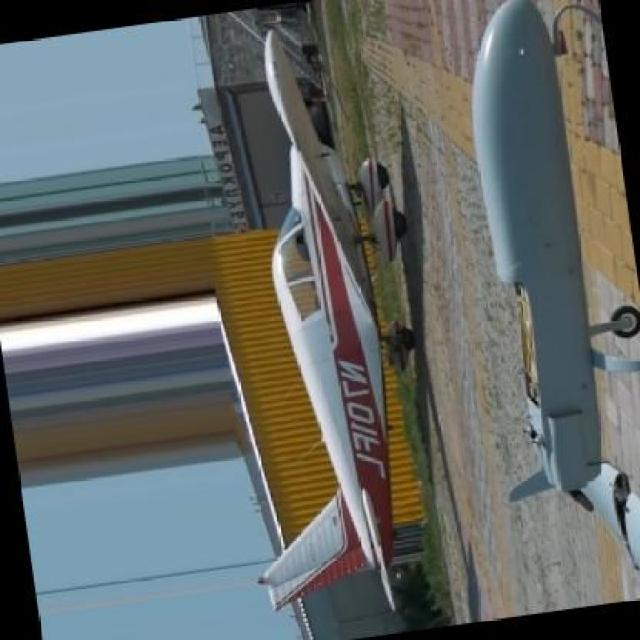iha: (234, 15, 432, 634), (467, 0, 640, 580)
